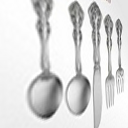Fork: (103, 10, 128, 117)
